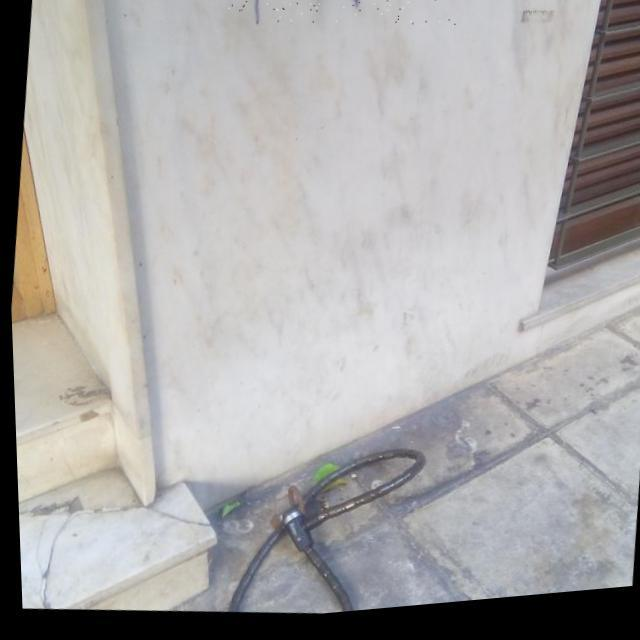-: (226, 0, 461, 48)
